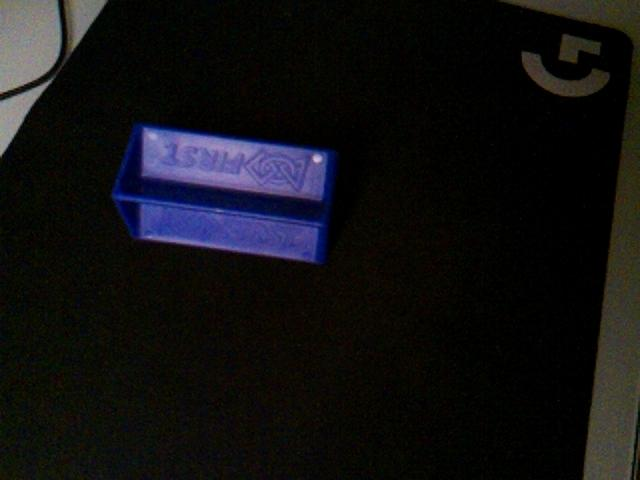blue: (110, 121, 340, 267)
